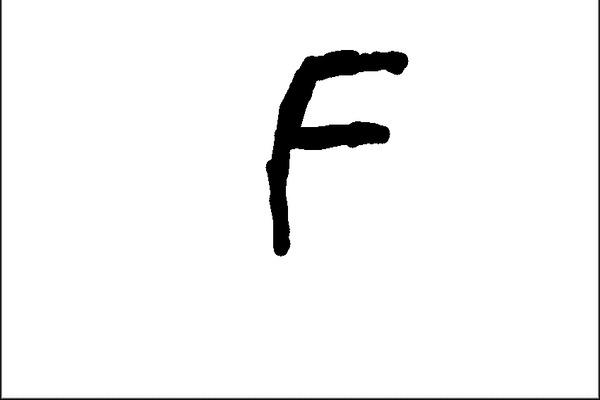F: (259, 45, 416, 261)
